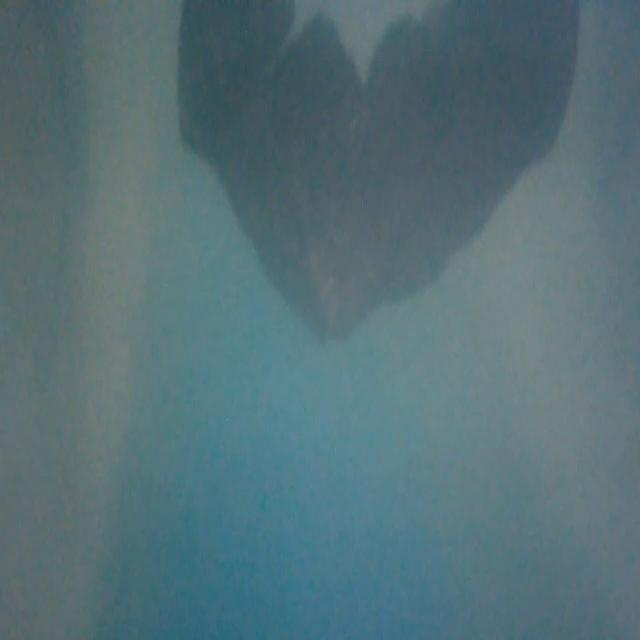plastic bags: (173, 2, 589, 354)
